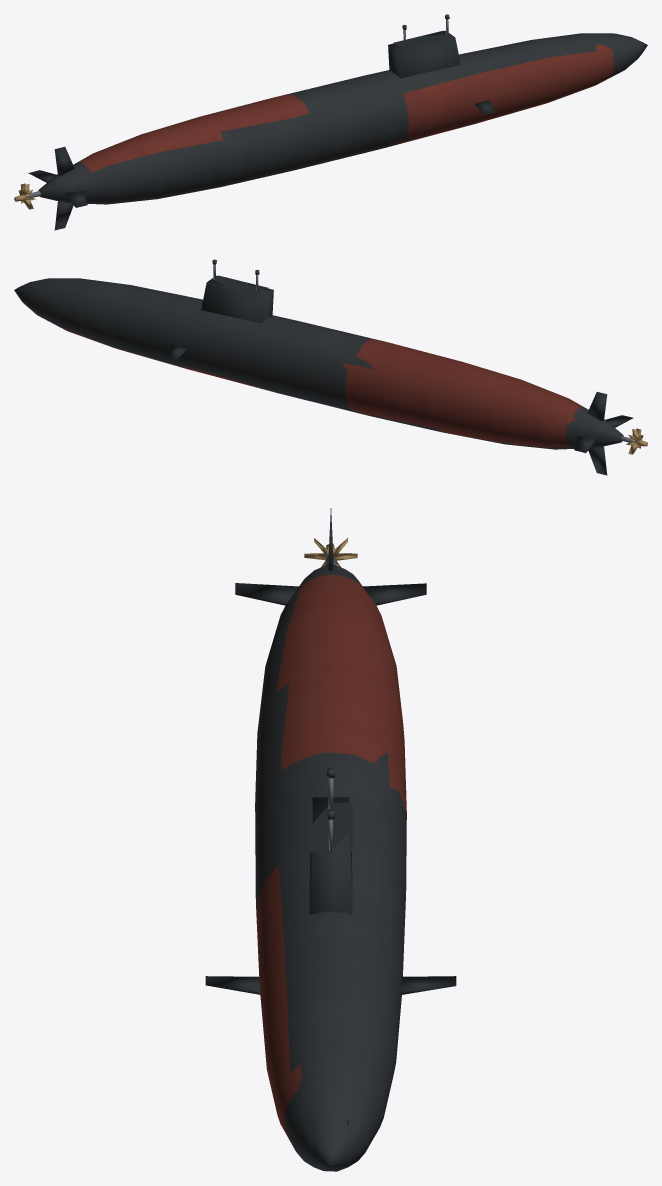
The model's file is RU_SSN_Victor_LOD3.fbx.
3 views of the same model, one above another, from view 1: azimuth 30°, elevation 25°; view 2: azimuth 150°, elevation 25°; view 3: azimuth 270°, elevation 25° (orthographic). The views are drawn at different scales.
Visible parts, largest first — view 1: RU_SSN_Victor_LOD3; view 2: RU_SSN_Victor_LOD3; view 3: RU_SSN_Victor_LOD3.
Boxes of the visible parts, left/top/right/bottom form: RU_SSN_Victor_LOD3: left=14, top=14, right=647, bottom=230; RU_SSN_Victor_LOD3: left=14, top=259, right=647, bottom=475; RU_SSN_Victor_LOD3: left=205, top=508, right=456, bottom=1171.
Size of the model in its own units: 96.25 by 16.49 by 17.36.
6 materials, 1 textured.
